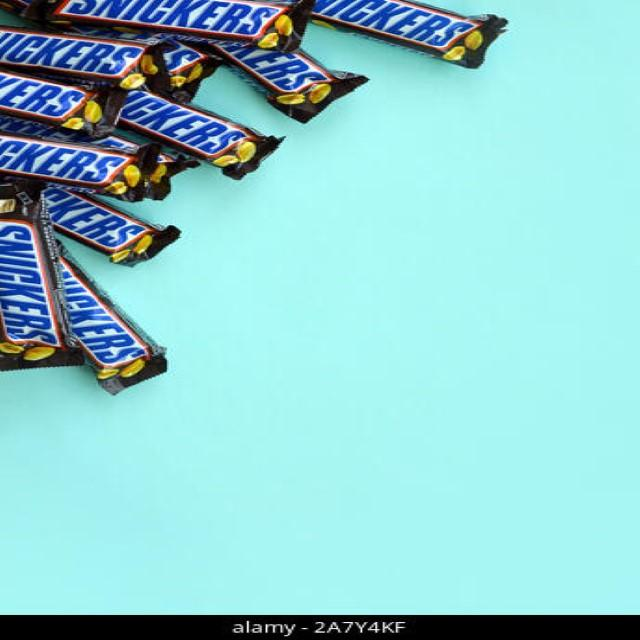snickers_chocolate: (62, 263, 173, 397), (54, 0, 303, 53), (0, 135, 143, 206), (0, 23, 181, 76), (316, 0, 476, 56), (132, 105, 255, 170), (0, 190, 40, 373), (235, 42, 323, 116)
